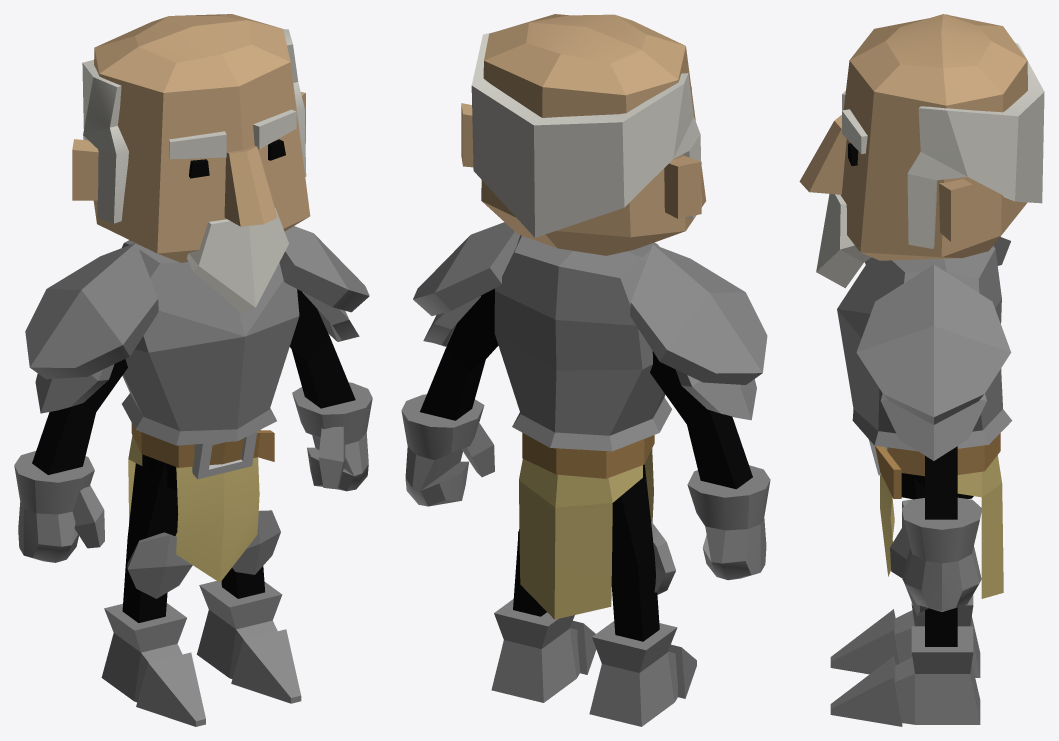
3 renders of one model, left to right at view 1: azimuth 30°, elevation 25°; view 2: azimuth 150°, elevation 25°; view 3: azimuth 270°, elevation 25°, orthographic. The views are drawn at different scales.
Visible parts, largest first — view 1: Soldier_60; view 2: Soldier_60; view 3: Soldier_60.
Boxes of the visible parts, x1,y1,x2,y2 form: Soldier_60: (14,14,372,726); Soldier_60: (401,14,770,726); Soldier_60: (799,14,1044,726).
Size of the model in its own units: 0.9251 by 1.64 by 0.5548.
7 materials, 1 textured.
